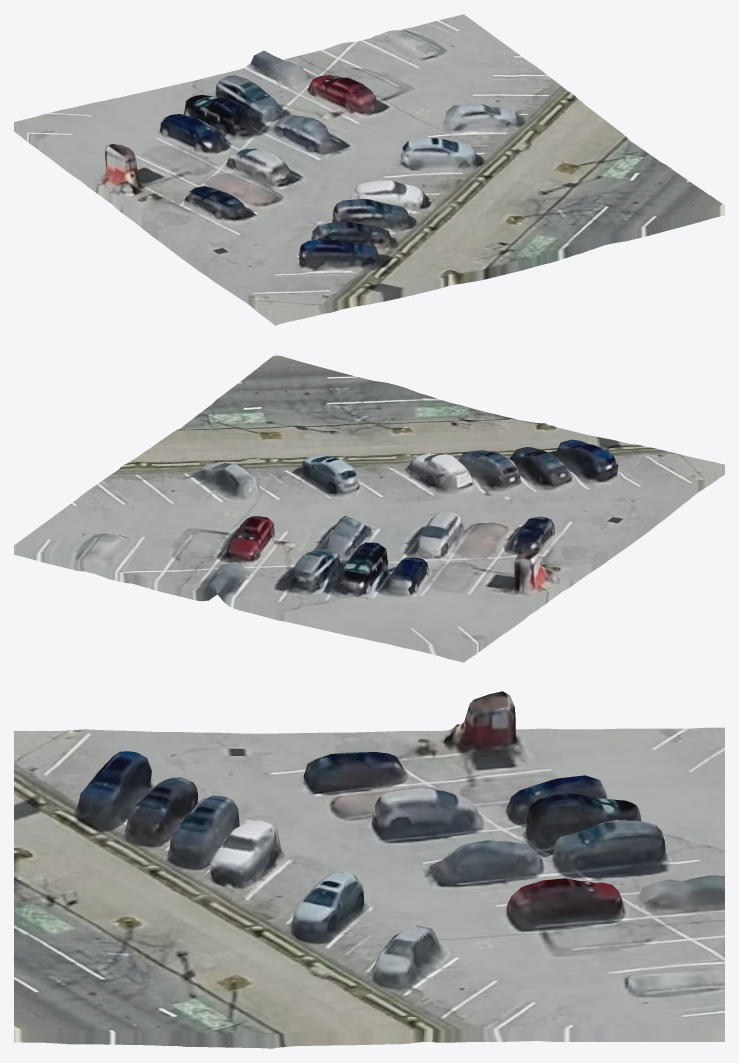
Rendered from z20-167777-405206-h0-yup-uvflip-v3-world.glb.
3 views of the same model, one above another, from view 1: azimuth 30°, elevation 25°; view 2: azimuth 150°, elevation 25°; view 3: azimuth 270°, elevation 25° (orthographic). The views are drawn at different scales.
Bounding box in the file's own units: 30.16 × 3.28 × 30.32.
1 material, 1 textured.
